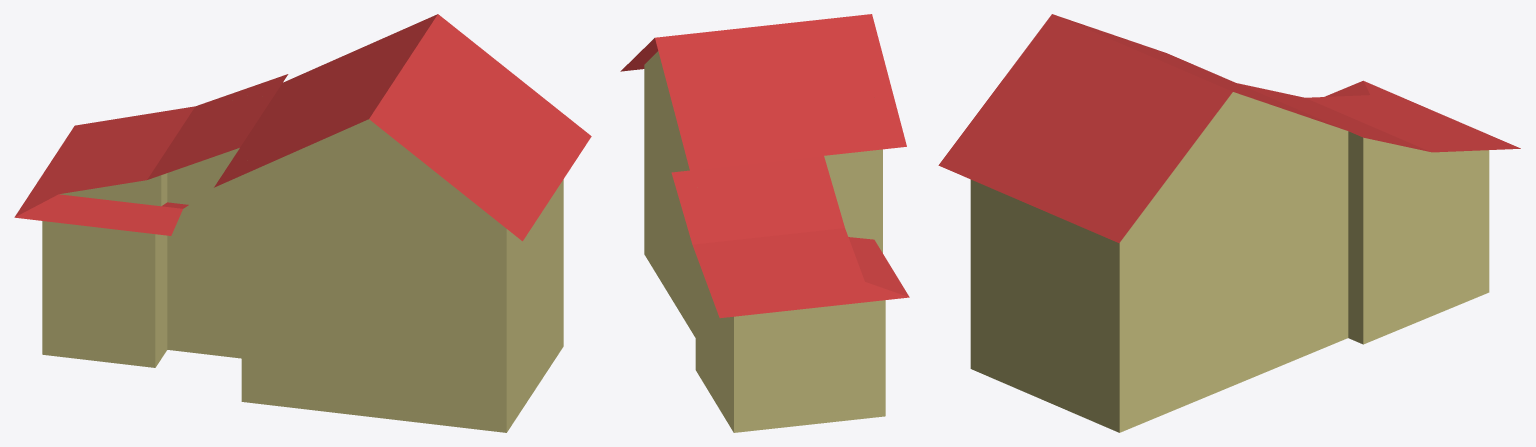
3 views of the same model, side by side, from view 1: azimuth 30°, elevation 25°; view 2: azimuth 150°, elevation 25°; view 3: azimuth 270°, elevation 25° (orthographic). The views are drawn at different scales.
Bounding box in the file's own units: 17.33 × 19.23 × 11.19.
